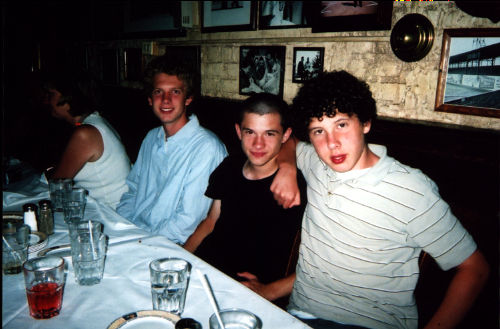without_mask: (307, 110, 376, 171), (234, 109, 292, 166), (149, 72, 193, 125)
